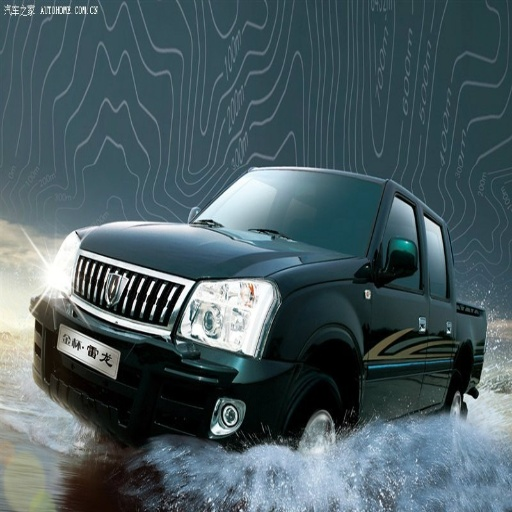front_bumper: (40, 258, 291, 443)
front_glass: (198, 175, 381, 252)
front_left_door: (365, 189, 429, 380)
